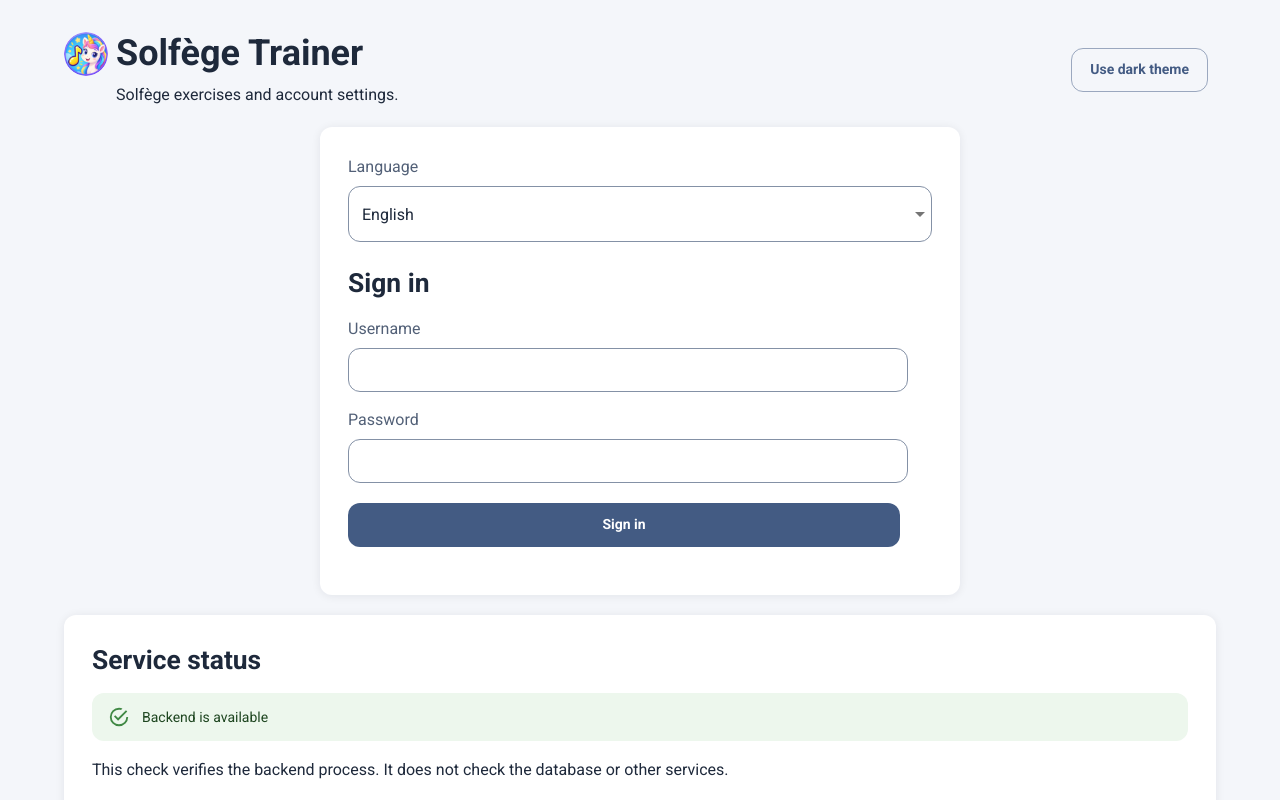
Test: provides a localized circular game shortcut in en
The image size is (1280, 800).
Hover over the link named "Play Guess the Note" at (86, 54), box [64, 32, 108, 76]
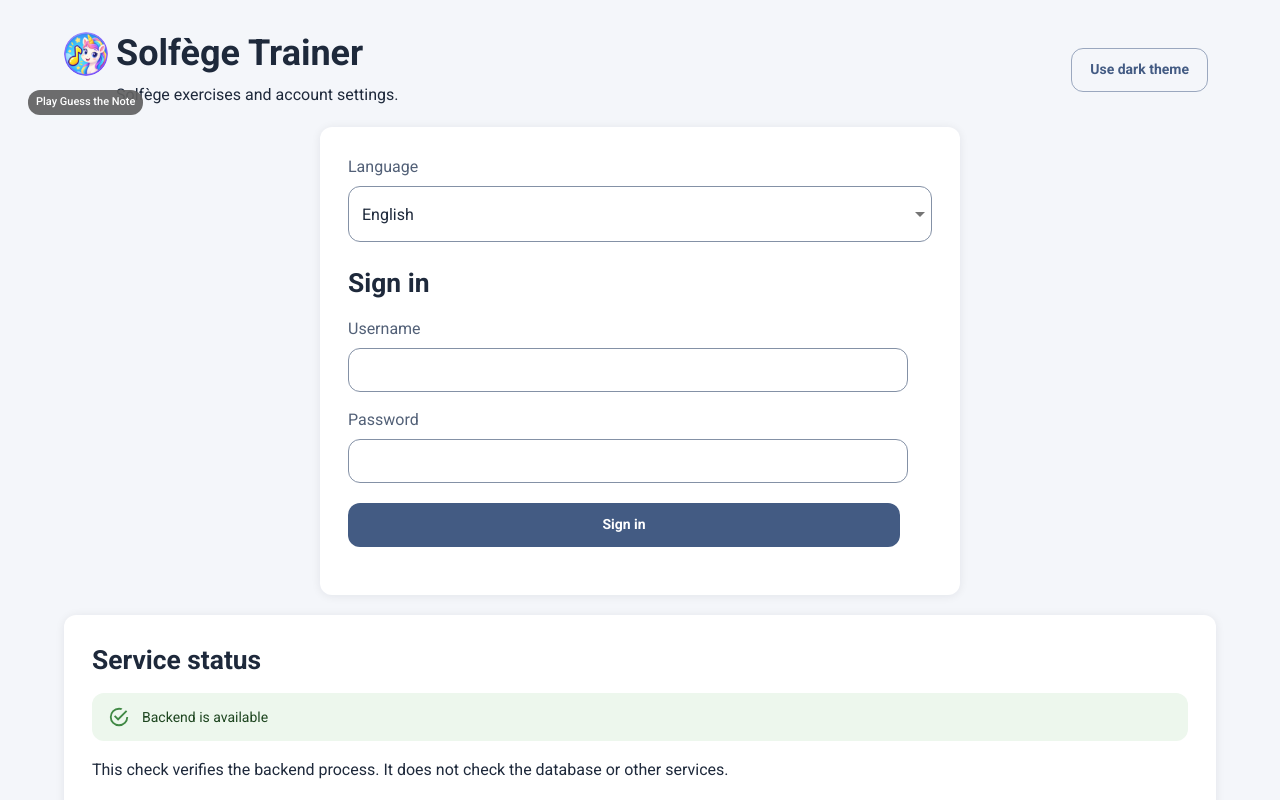
Expected: the tooltip reads "Play Guess the Note", [36, 95, 135, 108]
